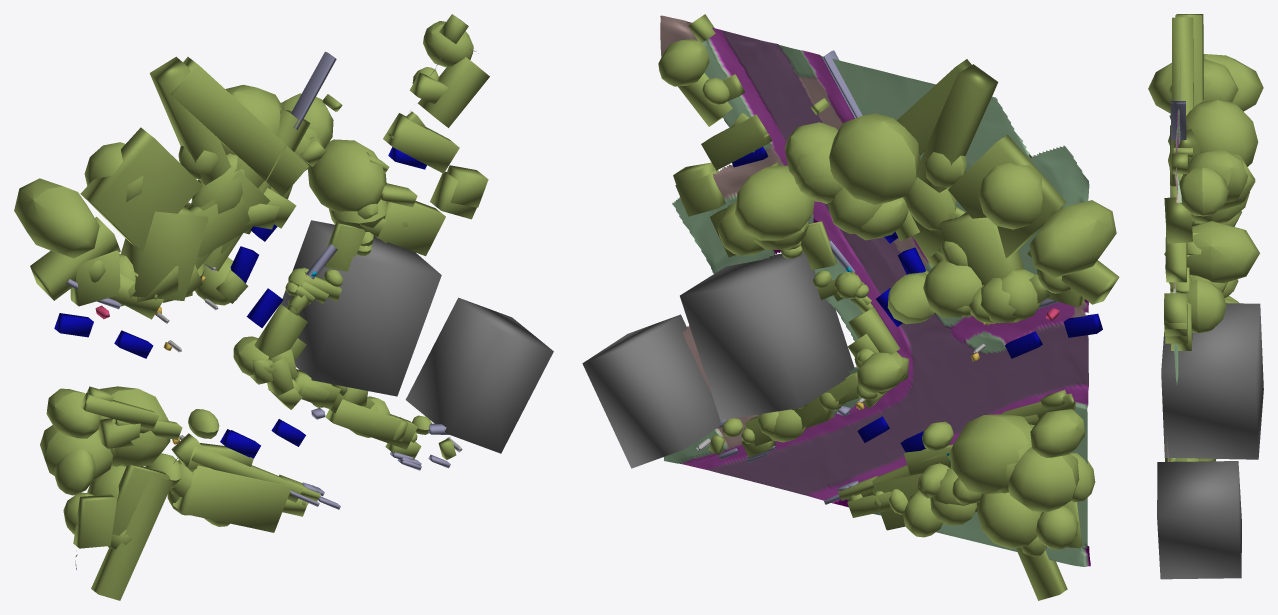
The picture shows the model from 3 angles, left to right: view 1: azimuth 30°, elevation 25°; view 2: azimuth 150°, elevation 25°; view 3: azimuth 270°, elevation 25°; orthographic projection. The views are drawn at different scales.
Size of the model in its own units: 75.13 by 73.65 by 16.
